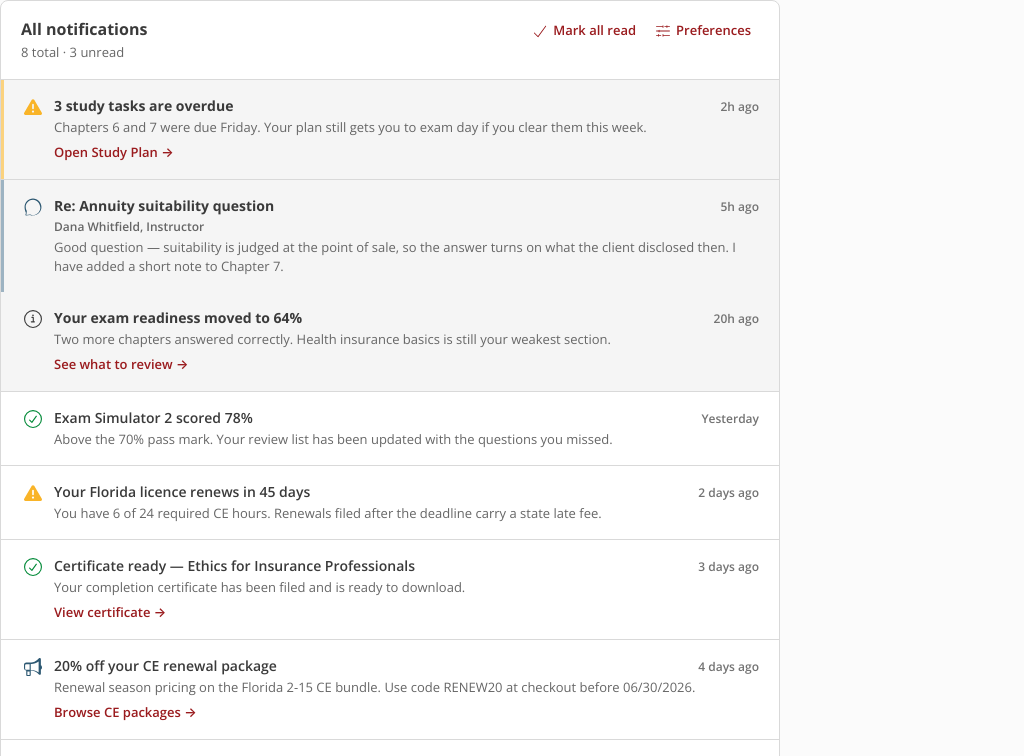
Scenario: notification preferences › muting does not mark anything read — unmuting brings it back as it was
Click the button "Preferences".
click(704, 31)  # box [648,17,759,44]
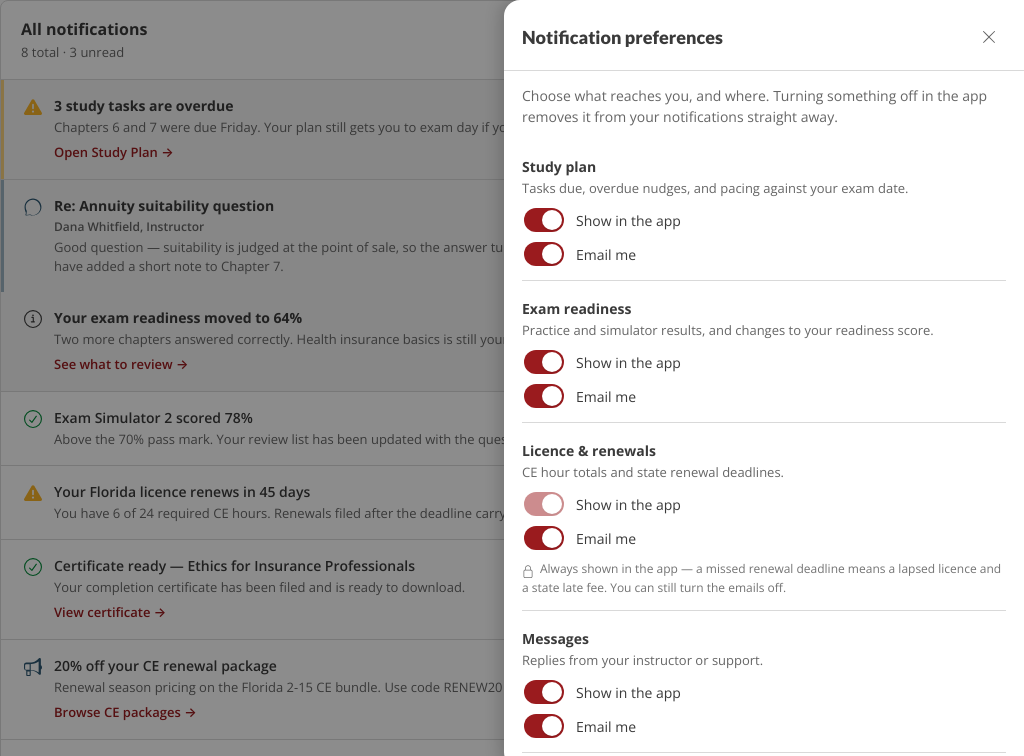
Check: the link with aria-label "Warning: 3 study tasks are overdue. 2h ago. Unread." is shown, box [1,80,779,180]
Click the 1st switch named "Show in the app".
click(544, 220)  # box [524,208,564,232]
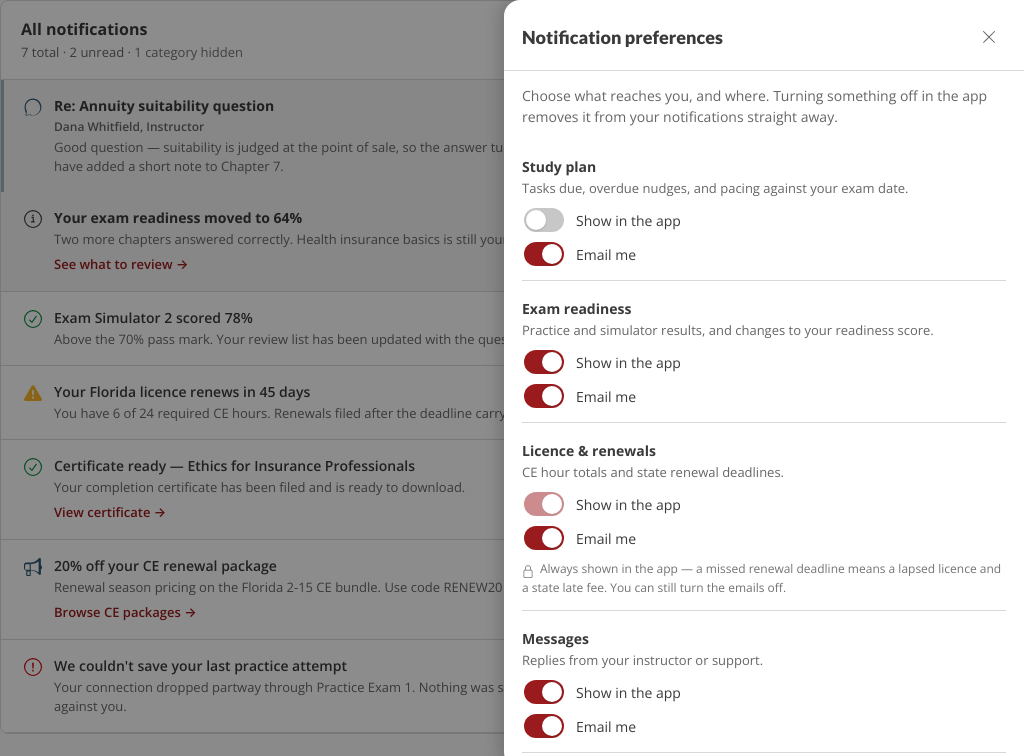
Click the switch named "Show in the app" below "Study plan".
click(544, 220)  # box [524,208,564,232]
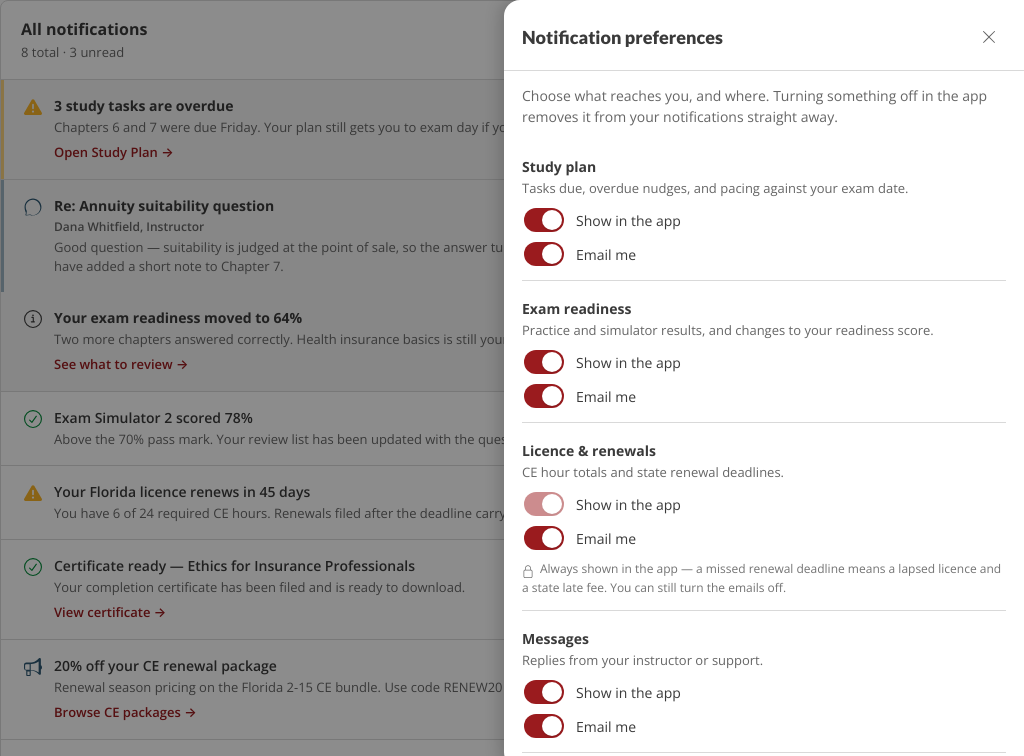
Check: the link with aria-label "Warning: 3 study tasks are overdue. 2h ago. Unread." is shown, box [1,80,779,180]
